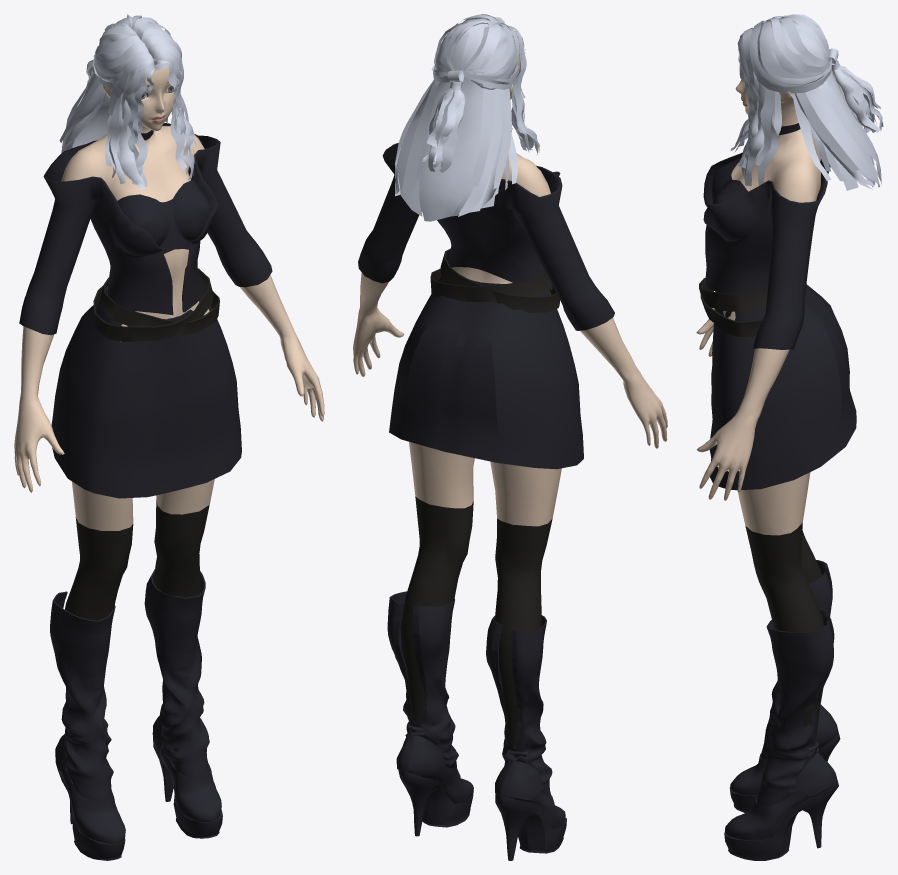
Rendered from jiubao.fbx.
3 views of the same model, side by side, from view 1: azimuth 30°, elevation 25°; view 2: azimuth 150°, elevation 25°; view 3: azimuth 270°, elevation 25° (orthographic).
Visible parts, largest first — view 1: girl:pasted__pasted__polySurface12pasted__pasted__polySurfac, girl:pasted__polySurface16pasted__polySurface15pasted__polyS, polySurface16, girl:Mesh_Boots, girl:Hair01pasted__pasted__hair3pasted__grouphair3, girl:Mesh_Boots1, polySurface13, polySurface15, girl:MF000pasted__group1group2, girl:pasted__pasted__pasted__polySurface11group9, girl:group9pasted__pasted__pasted__pasted__pasted__pasted__p; view 2: girl:pasted__pasted__polySurface12pasted__pasted__polySurfac, girl:Hair01pasted__pasted__hair3pasted__grouphair3, girl:pasted__polySurface16pasted__polySurface15pasted__polyS, polySurface16, girl:Mesh_Boots1, girl:Mesh_Boots, polySurface15, polySurface13, girl:group9pasted__pasted__pasted__pasted__pasted__pasted__p, girl:pasted__pasted__pasted__polySurface11group9; view 3: girl:pasted__pasted__polySurface12pasted__pasted__polySurfac, girl:Hair01pasted__pasted__hair3pasted__grouphair3, girl:Mesh_Boots1, girl:pasted__polySurface16pasted__polySurface15pasted__polyS, polySurface16, polySurface15, girl:Mesh_Boots, girl:pasted__pasted__pasted__polySurface11group9, girl:MF000pasted__group1group2, girl:group9pasted__pasted__pasted__pasted__pasted__pasted__p, polySurface13.
Part boxes in pixels (x1,y1,x2,y2): girl:pasted__pasted__polySurface12pasted__pasted__polySurfac: [51, 285, 241, 498]; girl:pasted__polySurface16pasted__polySurface15pasted__polyS: [19, 123, 272, 335]; polySurface16: [14, 68, 324, 530]; girl:Mesh_Boots: [50, 591, 125, 860]; girl:Hair01pasted__pasted__hair3pasted__grouphair3: [59, 14, 196, 189]; girl:Mesh_Boots1: [144, 569, 222, 838]; polySurface13: [65, 517, 133, 691]; polySurface15: [153, 499, 210, 636]; girl:MF000pasted__group1group2: [117, 180, 210, 253]; girl:pasted__pasted__pasted__polySurface11group9: [93, 268, 213, 341]; girl:group9pasted__pasted__pasted__pasted__pasted__pasted__p: [100, 277, 219, 335]; girl:pasted__pasted__polySurface12pasted__pasted__polySurfac: [389, 260, 583, 469]; girl:Hair01pasted__pasted__hair3pasted__grouphair3: [394, 14, 539, 221]; girl:pasted__polySurface16pasted__polySurface15pasted__polyS: [358, 143, 614, 330]; polySurface16: [353, 56, 667, 526]; girl:Mesh_Boots1: [387, 591, 473, 836]; girl:Mesh_Boots: [486, 615, 566, 860]; polySurface15: [400, 496, 473, 722]; polySurface13: [494, 518, 552, 745]; girl:group9pasted__pasted__pasted__pasted__pasted__pasted__p: [430, 268, 553, 301]; girl:pasted__pasted__pasted__polySurface11group9: [440, 248, 559, 313]; girl:pasted__pasted__polySurface12pasted__pasted__polySurfac: [709, 284, 856, 490]; girl:Hair01pasted__pasted__hair3pasted__grouphair3: [730, 14, 883, 190]; girl:Mesh_Boots1: [724, 608, 838, 860]; girl:pasted__polySurface16pasted__polySurface15pasted__polyS: [703, 152, 830, 349]; polySurface16: [696, 80, 820, 535]; polySurface15: [745, 522, 823, 737]; girl:Mesh_Boots: [729, 560, 840, 812]; girl:pasted__pasted__pasted__polySurface11group9: [699, 277, 767, 311]; girl:MF000pasted__group1group2: [711, 156, 748, 210]; girl:group9pasted__pasted__pasted__pasted__pasted__pasted__p: [700, 278, 762, 337]; polySurface13: [801, 530, 822, 582].
Bounding box in the file's own units: 19.36 × 50.1 × 10.41.
Materials: 13 (12 with a texture image).
